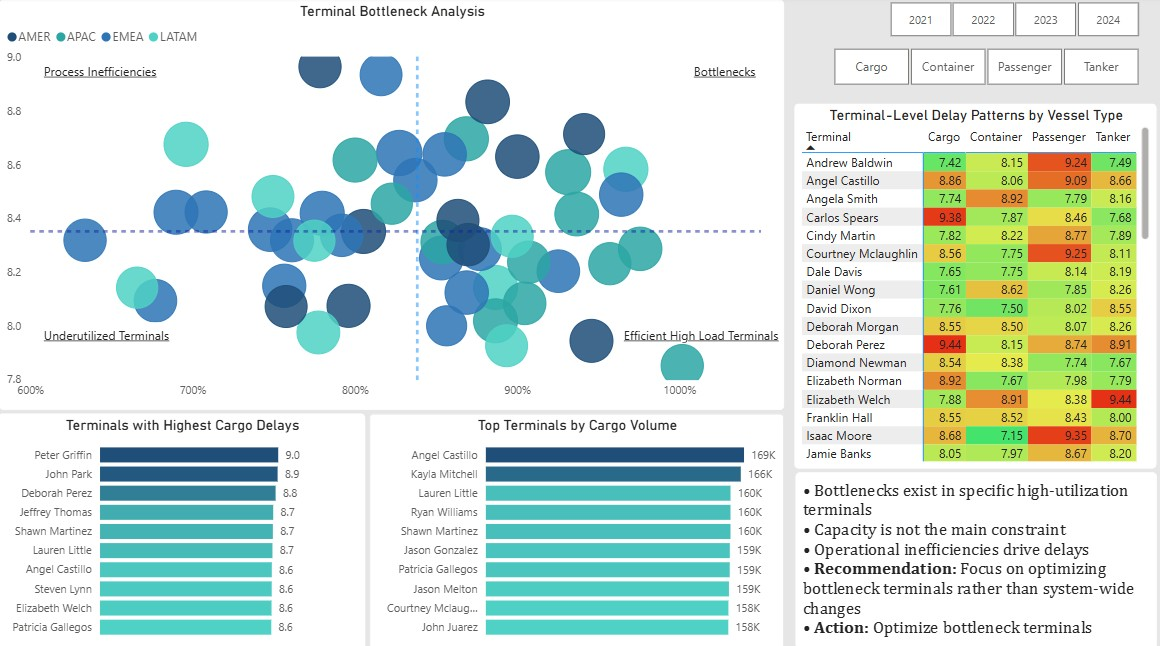

The page's visual inventory and layout, read from the dashboard file:
{"tool":"powerbi","page":{"name":"Terminal Bottleneck Analysis","canvas":[1280,720],"ordinal":1},"visuals":[{"type":"scatterChart","title":"Terminal Bottleneck Analysis","fields":{"X":["dim_terminal.Utilization %"],"Y":["fact_cargo_movements.Avg Move Duration (Hrs)"],"Category":["dim_terminal.terminal_name"],"Size":["fact_cargo_movements.Total Containers"],"Series":["dim_terminal.regional_hub"]},"box":[1.4,4.1,861.8,450.1],"z":0},{"type":"barChart","title":"Top Terminals by Cargo Volume","fields":{"Category":["dim_terminal.terminal_name"],"Y":["fact_cargo_movements.Total Containers"]},"box":[407.5,458.3,455.6,259.3],"z":1000},{"type":"barChart","title":"Terminals with Highest Cargo Delays","fields":{"Category":["dim_terminal.terminal_name"],"Y":["fact_cargo_movements.Avg Move Duration (Hrs)"]},"box":[0,457.9,403.4,259.3],"z":2000},{"type":"pivotTable","title":"Terminal-Level Delay Patterns by Vessel Type","fields":{"Rows":["dim_terminal.terminal_name"],"Columns":["dim_vessel.vessel_category"],"Values":["fact_cargo_movements.Avg Move Duration (Hrs)"]},"box":[874.1,118,397.9,400.7],"z":3000},{"type":"textbox","box":[45.3,358.1,156.4,27.4],"z":4000},{"type":"textbox","box":[45.3,68.6,142.7,27.4],"z":5000},{"type":"textbox","box":[759.2,68.6,87.8,27.4],"z":6000},{"type":"textbox","box":[682,358.1,192.1,27.4],"z":7000},{"type":"textbox","box":[875.5,522.8,396.6,193.5],"z":8000},{"type":"slicer","fields":{"Values":["dim_time.fiscal_year"]},"box":[953.4,0,322.5,50.8],"z":9000},{"type":"slicer","fields":{"Values":["dim_vessel.vessel_category"]},"box":[891.7,50.8,384.2,53.5],"z":10000}]}

Visuals, with their boxes in screenshot pixels (x1, y1, x2, y2), scaled from the page's 1280x720 canvas onto the 1160x646 screenshot:
"Terminal Bottleneck Analysis" scatterChart: x1=1 y1=4 x2=782 y2=408
"Top Terminals by Cargo Volume" barChart: x1=369 y1=411 x2=782 y2=644
"Terminals with Highest Cargo Delays" barChart: x1=0 y1=411 x2=366 y2=643
"Terminal-Level Delay Patterns by Vessel Type" pivotTable: x1=792 y1=106 x2=1153 y2=465
textbox: x1=41 y1=321 x2=183 y2=346
textbox: x1=41 y1=62 x2=170 y2=86
textbox: x1=688 y1=62 x2=768 y2=86
textbox: x1=618 y1=321 x2=792 y2=346
textbox: x1=793 y1=469 x2=1153 y2=643
slicer - dim_time.fiscal_year: x1=864 y1=0 x2=1156 y2=46
slicer - dim_vessel.vessel_category: x1=808 y1=46 x2=1156 y2=94
